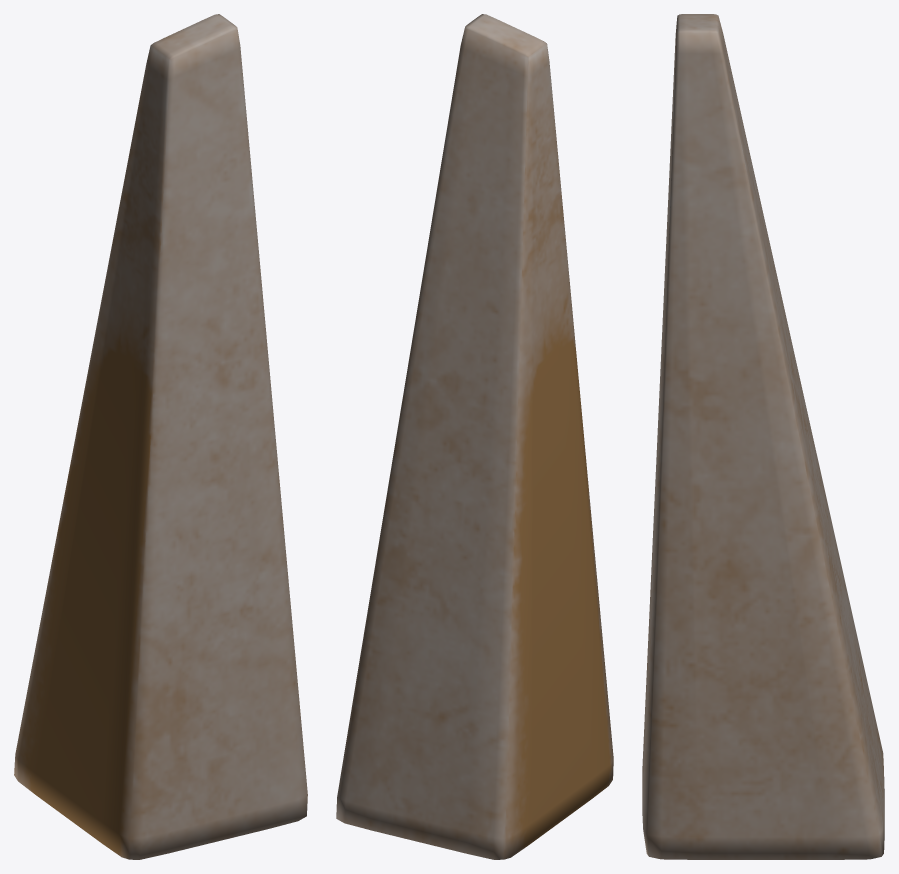
The model's file is gate1.fbx.
3 views of the same model, side by side, from view 1: azimuth 30°, elevation 25°; view 2: azimuth 150°, elevation 25°; view 3: azimuth 270°, elevation 25° (orthographic). The views are drawn at different scales.
Visible parts, largest first — view 1: gate1; view 2: gate1; view 3: gate1.
Part boxes in pixels (x1,y1,x2,y2): gate1: [14, 14, 307, 859]; gate1: [336, 14, 613, 859]; gate1: [642, 14, 884, 859].
Bounding box in the file's own units: 485 × 1989 × 543.
Materials: 1 (1 with a texture image).
